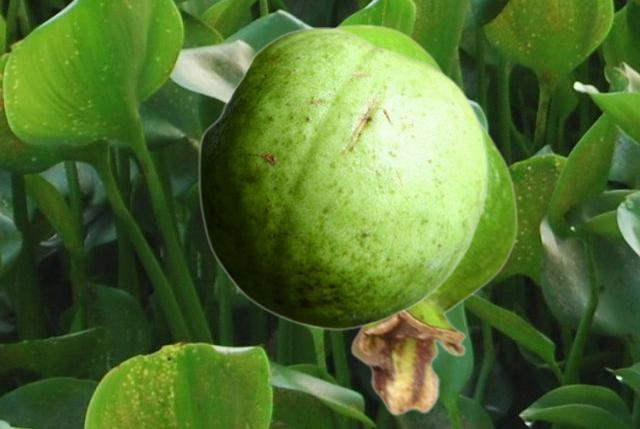guava: (198, 27, 487, 329), (348, 122, 517, 415), (332, 23, 444, 72)
